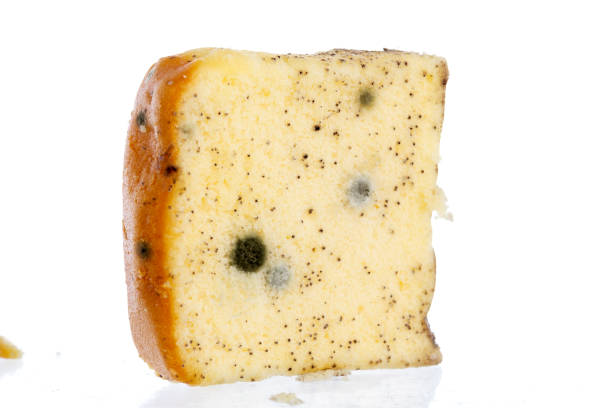mold_bread: (223, 229, 268, 270), (341, 174, 376, 211), (353, 86, 382, 120), (262, 264, 296, 292), (158, 162, 185, 183), (134, 237, 152, 263), (435, 64, 451, 89), (134, 109, 148, 131), (181, 122, 193, 138)
